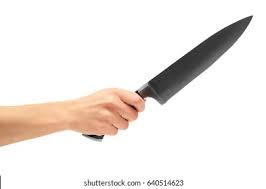weapon-unusual: (76, 11, 256, 143)
